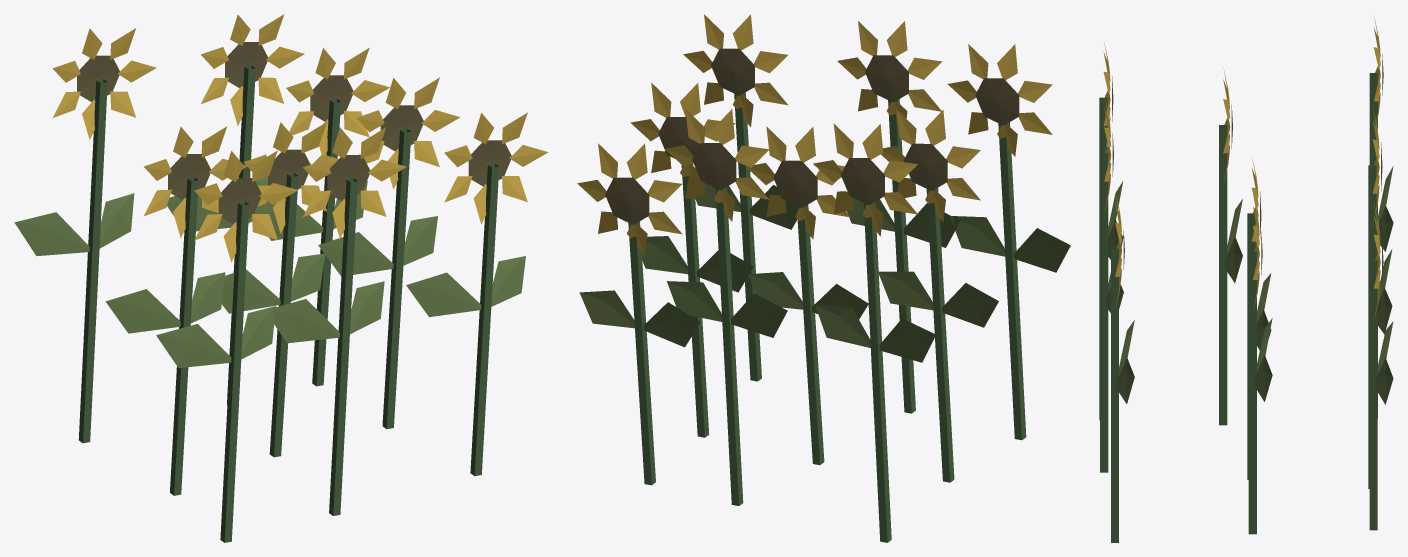
The model's file is ua_sunflower_patch.obj.
3 renders of one model, left to right at view 1: azimuth 30°, elevation 25°; view 2: azimuth 150°, elevation 25°; view 3: azimuth 270°, elevation 25°, orthographic. The views are drawn at different scales.
Parts seen in each view (by area): view 1: ua_sunflower_patch; view 2: ua_sunflower_patch; view 3: ua_sunflower_patch.
Boxes of the visible parts, box(x1,y1,x2,y2) form: ua_sunflower_patch: box(14, 14, 548, 542); ua_sunflower_patch: box(577, 14, 1070, 542); ua_sunflower_patch: box(1099, 17, 1393, 542).
Size of the model in its own units: 1.57 by 1.57 by 1.04.
